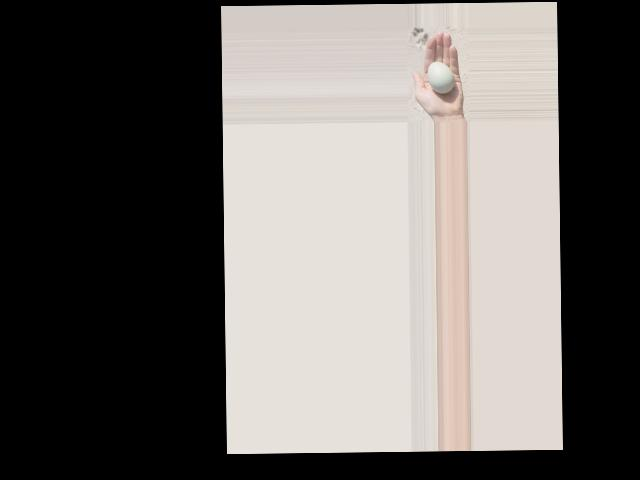egg: (428, 61, 455, 92)
